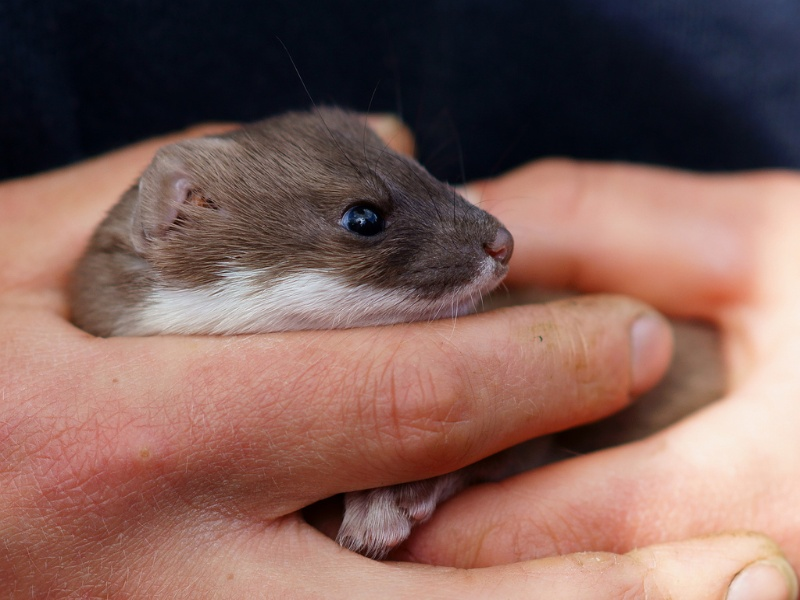minkish: (55, 104, 521, 343)
